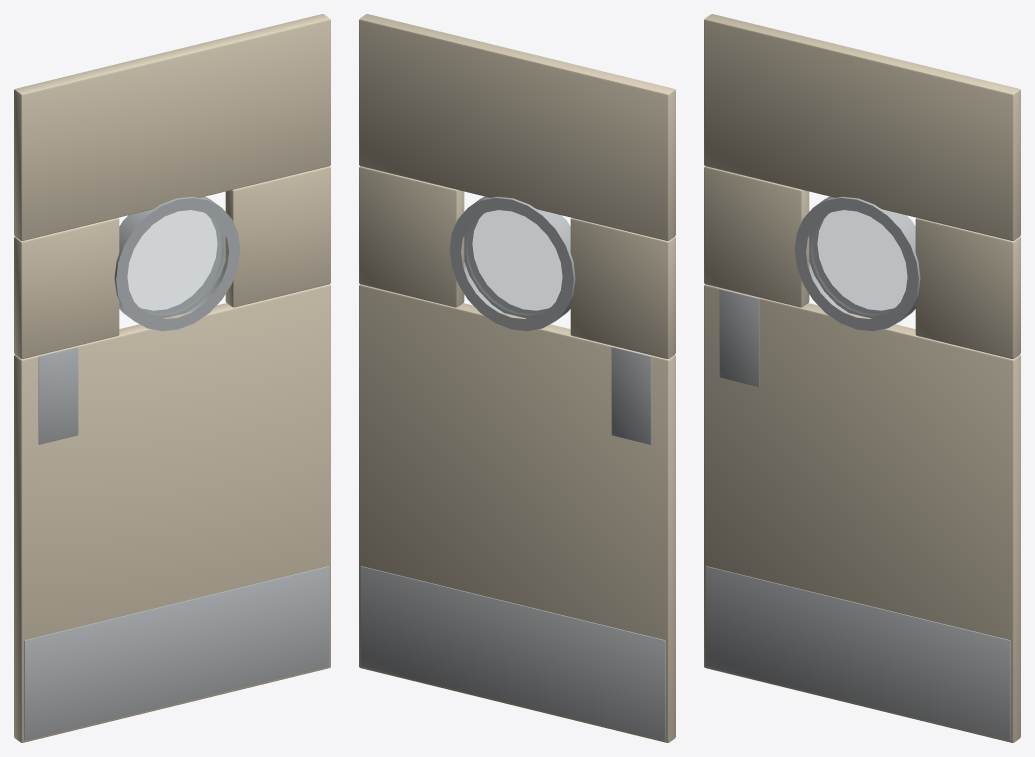
File: door_kitchen.glb
The picture shows the model from 3 angles, left to right: view 1: azimuth 30°, elevation 25°; view 2: azimuth 150°, elevation 25°; view 3: azimuth 330°, elevation 25°; orthographic projection.
Visible parts, largest first — view 1: door_kitchen; view 2: door_kitchen; view 3: door_kitchen.
Part boxes in pixels (x1,y1,x2,y2): door_kitchen: (14, 14, 330, 742); door_kitchen: (359, 14, 675, 742); door_kitchen: (704, 14, 1020, 742).
Bounding box in the file's own units: 1.1 × 2.2 × 0.07.
